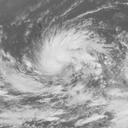cyclone: (37, 30, 106, 81)
